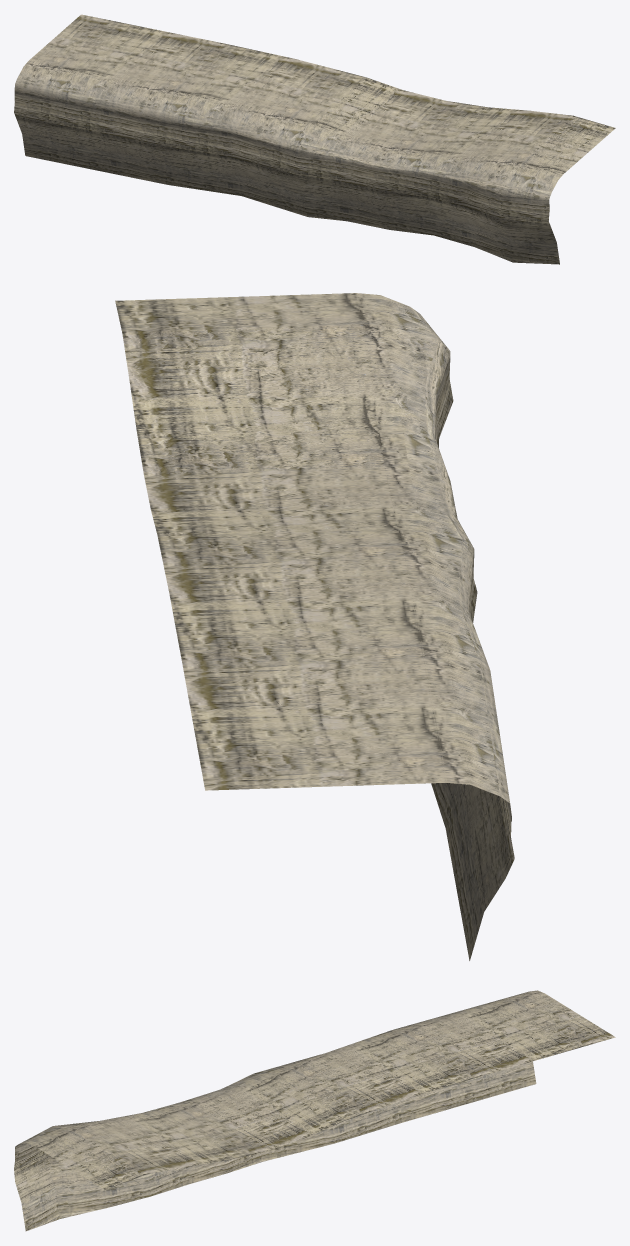
Rendered from SM_Level_PlageTymoes_BGRocks00.fbx.
The picture shows the model from 3 angles, top to bottom: view 1: azimuth 30°, elevation 25°; view 2: azimuth 150°, elevation 25°; view 3: azimuth 270°, elevation 25°; orthographic projection. The views are drawn at different scales.
Visible parts, largest first — view 1: SM_Level_PlageTymoes_BGRocks00; view 2: SM_Level_PlageTymoes_BGRocks00; view 3: SM_Level_PlageTymoes_BGRocks00.
Part boxes in pixels (x1,y1,x2,y2): SM_Level_PlageTymoes_BGRocks00: [14, 14, 615, 264]; SM_Level_PlageTymoes_BGRocks00: [115, 293, 514, 960]; SM_Level_PlageTymoes_BGRocks00: [14, 990, 615, 1231].
Size of the model in its own units: 8526 by 1900 by 10634.
